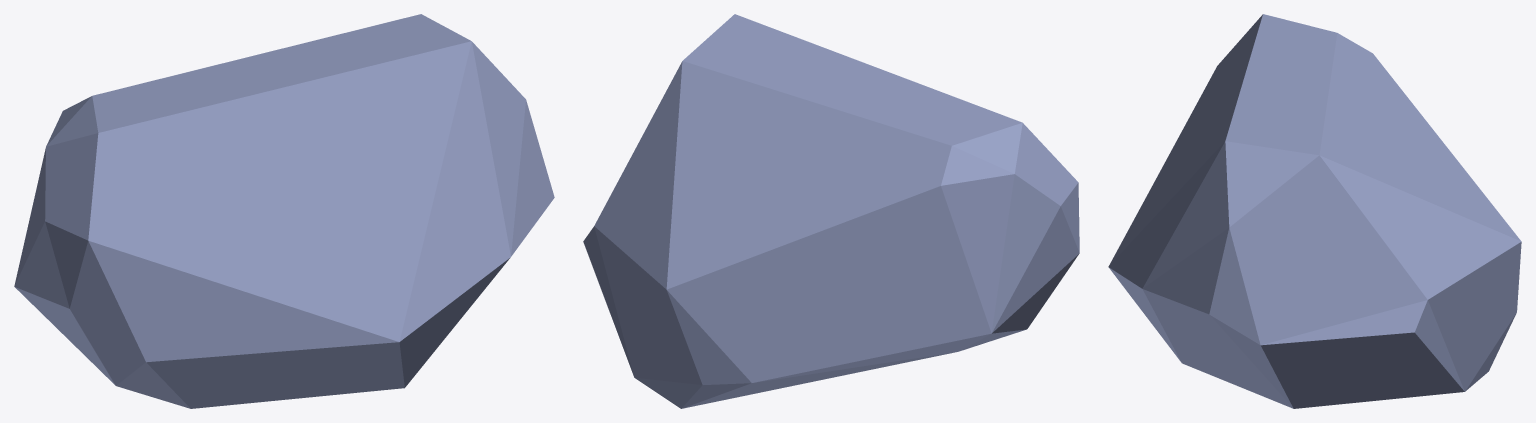
File: Stone_8.fbx
3 views of the same model, side by side, from view 1: azimuth 30°, elevation 25°; view 2: azimuth 150°, elevation 25°; view 3: azimuth 270°, elevation 25° (orthographic). The views are drawn at different scales.
Parts seen in each view (by area): view 1: Stone_8; view 2: Stone_8; view 3: Stone_8.
Part boxes in pixels (<box>): Stone_8: <box>14,14,554,408</box>; Stone_8: <box>583,14,1079,408</box>; Stone_8: <box>1108,14,1521,408</box>.
Bounding box in the file's own units: 1.16 × 0.7132 × 0.9925.
